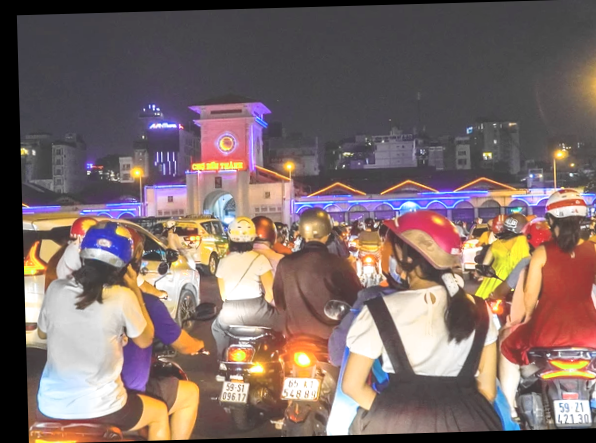Bien-so: (259, 374, 301, 404), (536, 422, 573, 443), (196, 374, 227, 398), (354, 264, 366, 273)
